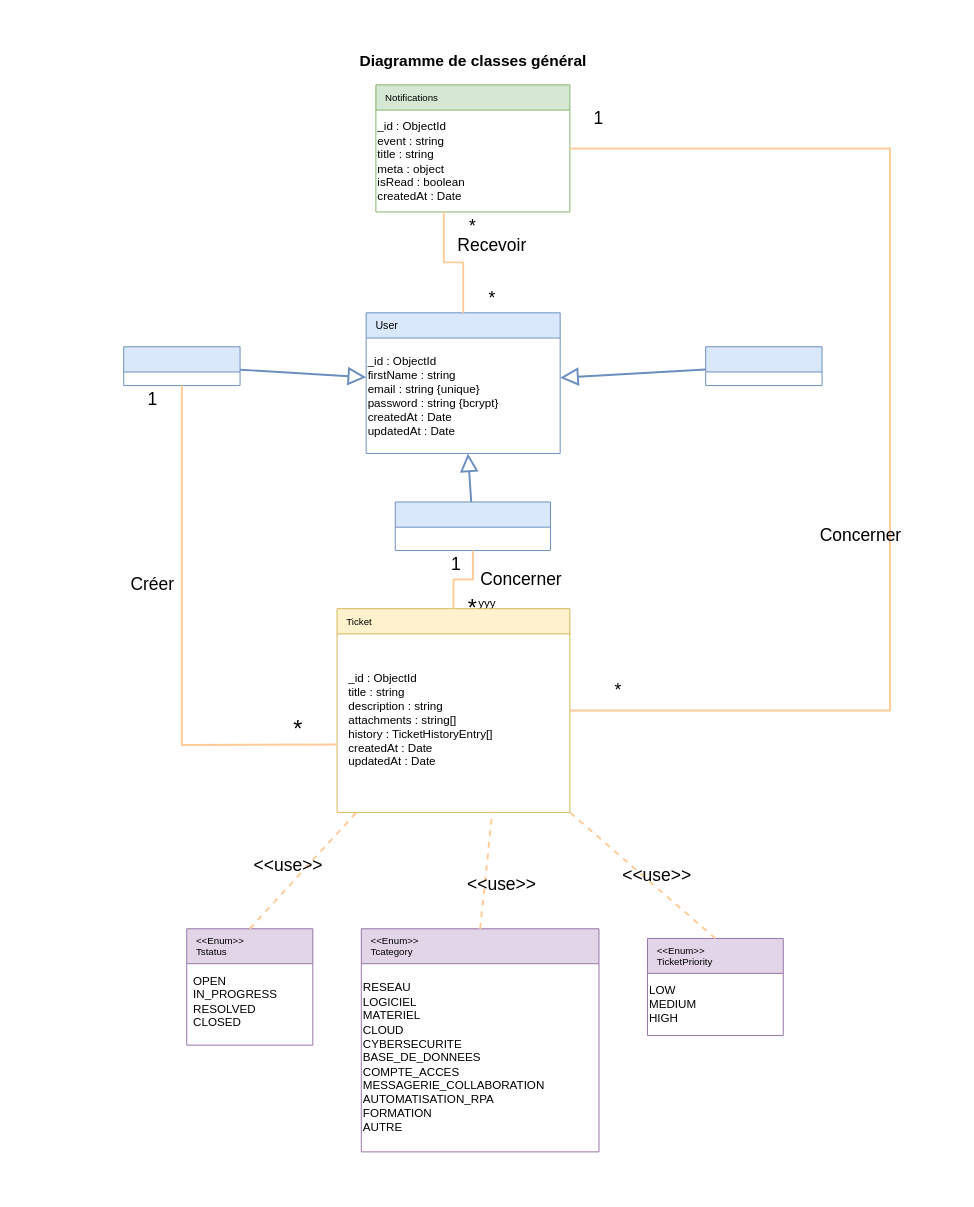
This 974x1207 diagram has some shape labels left out. Here are the shapes that lost their labels. From the top down, the centre of each, then its label:
At (x=181, y=366): "Client".
At (x=763, y=366): "Admin".
At (x=472, y=525): "Technicien".
